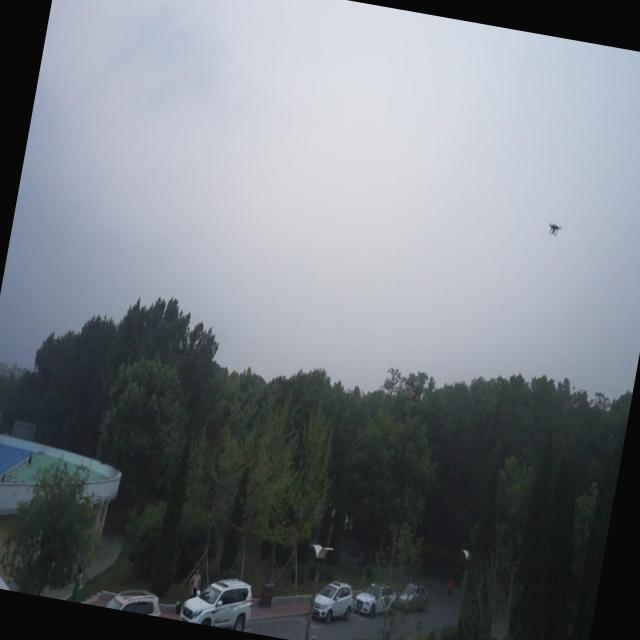drone: (543, 217, 563, 240)
